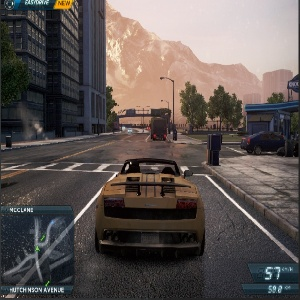mailbox: (206, 131, 226, 165)
